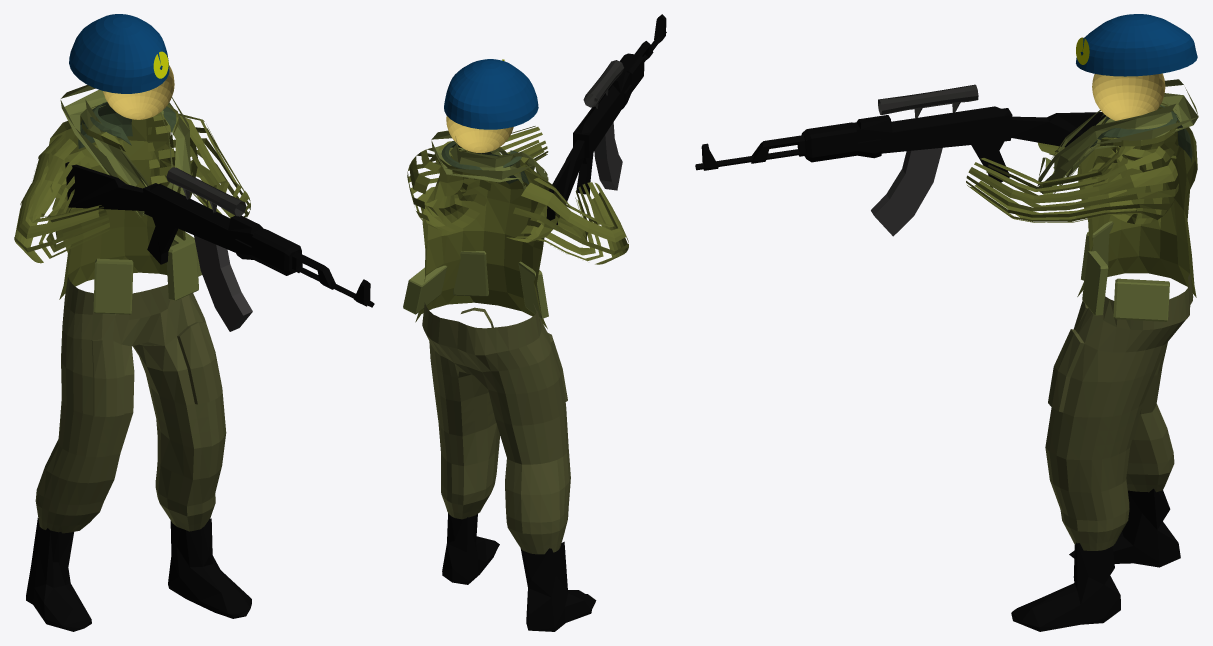
The model's file is Marines.glb.
3 views of the same model, side by side, from view 1: azimuth 30°, elevation 25°; view 2: azimuth 150°, elevation 25°; view 3: azimuth 270°, elevation 25° (orthographic). The views are drawn at different scales.
Parts seen in each view (by area): view 1: pants_Circle.002, AK_Plane.002, jacket_Circle.003, hat_Sphere, sleeve_right_Circle.001, shoe_left_Plane.001, shoe_right_Plane, Circle_Circle.005, sleeve_left_Circle, AK_clip_Plane.006, Cube.001_Cube.002, Sphere_Sphere.001 (+3 smaller); view 2: pants_Circle.002, jacket_Circle.003, hat_Sphere, sleeve_right_Circle.001, AK_Plane.002, shoe_right_Plane, sleeve_left_Circle, shoe_left_Plane.001, Circle_Circle.005, Cube.002_Cube.003, Sphere_Sphere.001, Cube.003_Cube.007 (+4 smaller); view 3: pants_Circle.002, AK_Plane.002, jacket_Circle.003, sleeve_left_Circle, hat_Sphere, shoe_left_Plane.001, Circle_Circle.005, shoe_right_Plane, AK_clip_Plane.006, Sphere_Sphere.001, Cube.003_Cube.007, Cylinder.001 (+3 smaller).
Boxes of the visible parts, x1,y1,x2,y2 form: pants_Circle.002: (35, 275, 226, 533); AK_Plane.002: (65, 162, 374, 307); jacket_Circle.003: (48, 104, 197, 299); hat_Sphere: (69, 14, 169, 93); sleeve_right_Circle.001: (14, 135, 109, 263); shoe_left_Plane.001: (168, 518, 251, 618); shoe_right_Plane: (26, 518, 91, 631); Circle_Circle.005: (60, 85, 192, 216); sleeve_left_Circle: (148, 112, 250, 218); AK_clip_Plane.006: (194, 235, 252, 331); Cube.001_Cube.002: (93, 258, 133, 314); Sphere_Sphere.001: (103, 65, 174, 119); pants_Circle.002: (422, 302, 570, 554); jacket_Circle.003: (415, 141, 561, 328); hat_Sphere: (444, 59, 538, 129); sleeve_right_Circle.001: (513, 177, 628, 264); AK_Plane.002: (546, 14, 666, 224); shoe_right_Plane: (520, 541, 596, 631); sleeve_left_Circle: (407, 126, 548, 231); shoe_left_Plane.001: (442, 513, 499, 584); Circle_Circle.005: (431, 130, 548, 189); Cube.002_Cube.003: (453, 251, 488, 296); Sphere_Sphere.001: (446, 116, 513, 153); Cube.003_Cube.007: (403, 265, 447, 314); pants_Circle.002: (1045, 273, 1193, 550); AK_Plane.002: (695, 106, 1120, 187); jacket_Circle.003: (1077, 103, 1197, 297); sleeve_left_Circle: (966, 145, 1178, 224); hat_Sphere: (1076, 14, 1197, 76); shoe_left_Plane.001: (1011, 542, 1120, 631); Circle_Circle.005: (1037, 79, 1198, 194); shoe_right_Plane: (1069, 488, 1180, 567); AK_clip_Plane.006: (871, 147, 942, 236); Sphere_Sphere.001: (1092, 73, 1165, 120); Cube.003_Cube.007: (1113, 278, 1169, 321); Cylinder.001: (878, 84, 978, 117).
Bounding box in the file's own units: 1.07 × 2.8 × 2.22.
